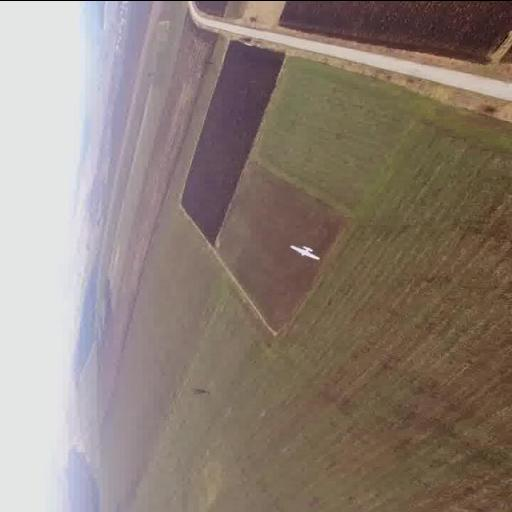uav: (282, 238, 336, 268)
